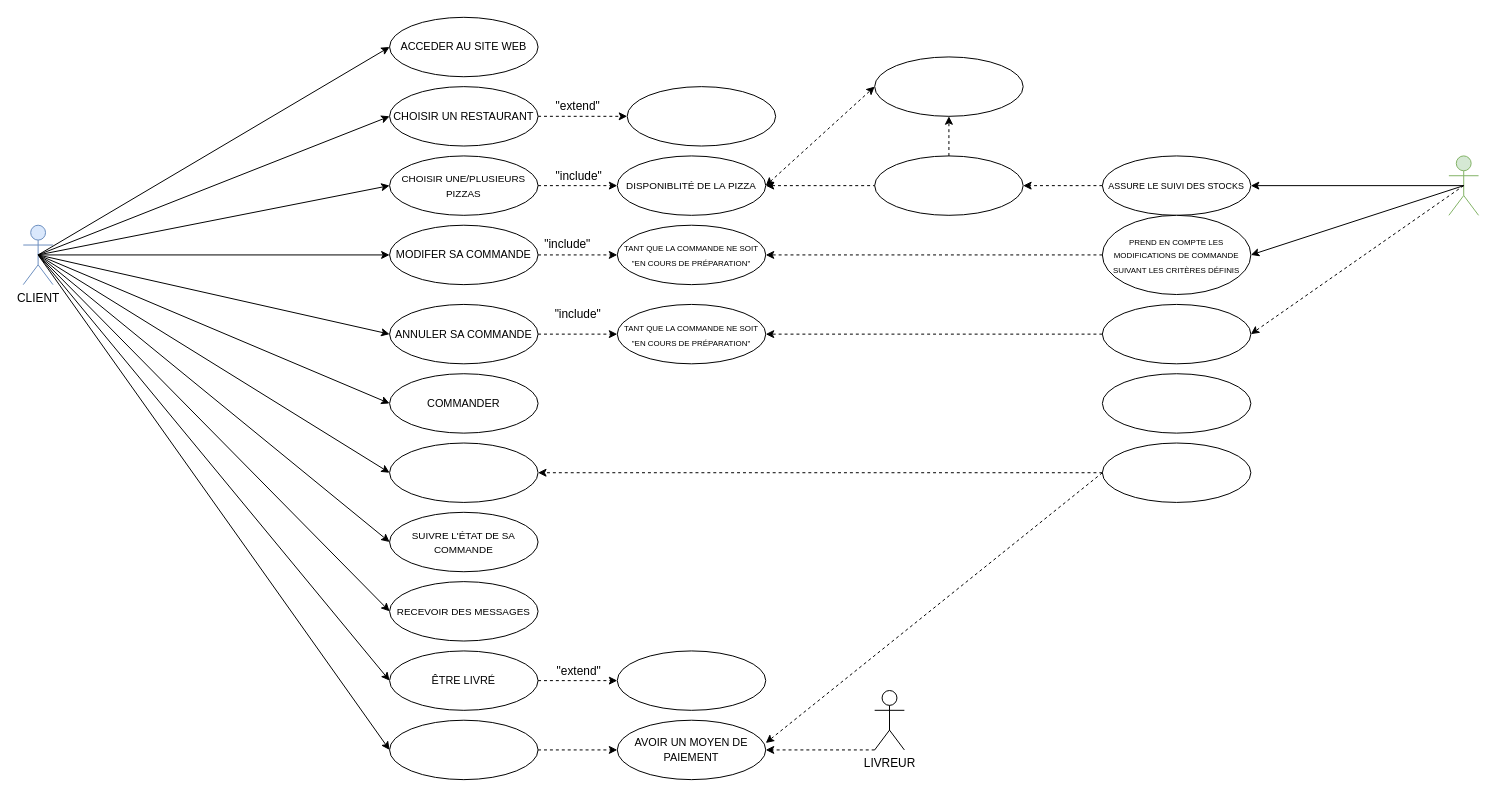
Some shapes in this 1509 by 797 pixel diagram are drawn without their labels. Here are the shapes that lost their labels. From the top down, the centre of each, then its label:
point (948, 86): AJOUTER OU SUPPRIMER DES PIZZAS
point (701, 116): DONNER UNE ADRESSE
point (948, 185): ASSURE LE SUIVI DES PIZZAS DISPONIBLES
point (1463, 185): SYSTÈME
point (1176, 333): PREND EN COMPTE LES ANNULATIONS DE COMMANDE
point (463, 472): RÉGLER EN LIGNE
point (1176, 472): ASSURE LE SUVI DU PAIEMENT DES COMMANDES
point (691, 680): DONNER ACCÈS A UNE ADRESSE
point (463, 749): RÉGLER A LA LIVRAISON
